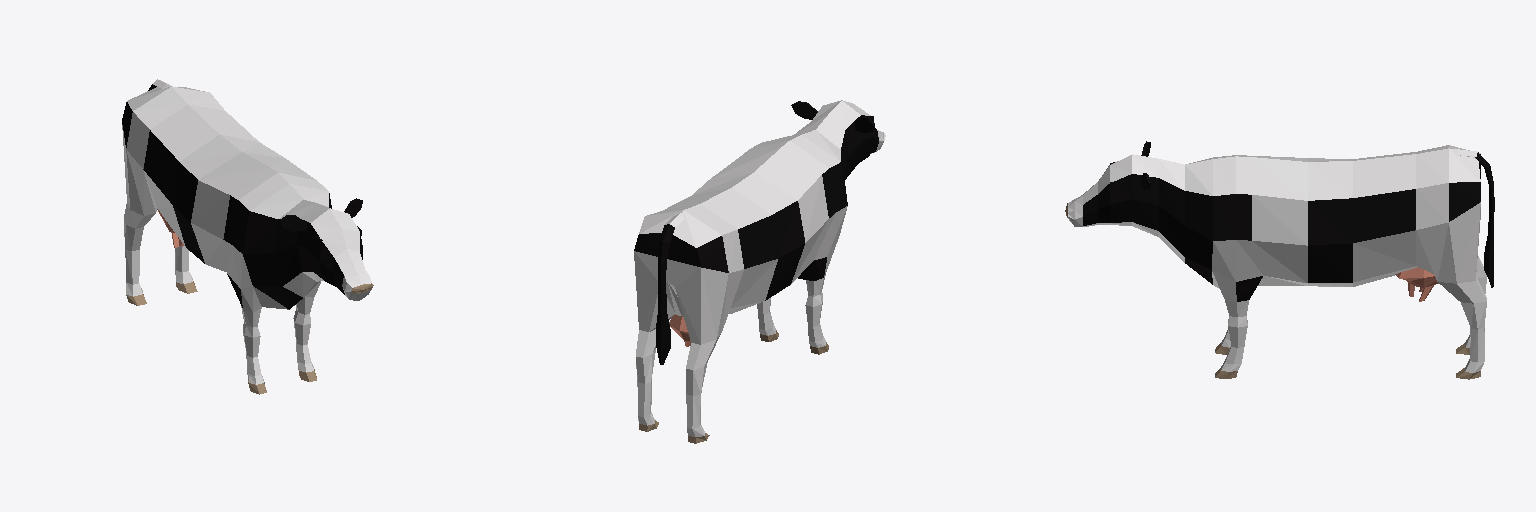
The picture shows the model from 3 angles: view 1: azimuth 30°, elevation 25°; view 2: azimuth 150°, elevation 25°; view 3: azimuth 270°, elevation 25°; orthographic projection.
Visible parts, largest first — view 1: Geo_Cow; view 2: Geo_Cow; view 3: Geo_Cow.
Boxes of the visible parts, <box> form: Geo_Cow: <box>122,79,373,394</box>; Geo_Cow: <box>634,100,885,443</box>; Geo_Cow: <box>1065,141,1494,379</box>.
Size of the model in its own units: 72.82 by 146 by 264.
1 materials, 1 textured.